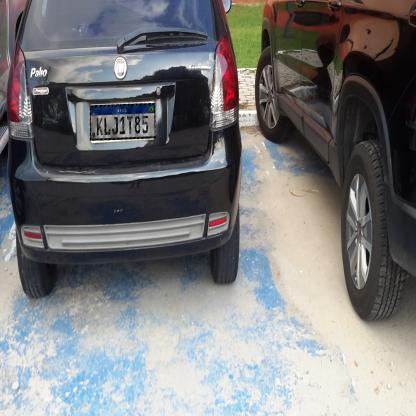PlacaM: (89, 103, 156, 141)
